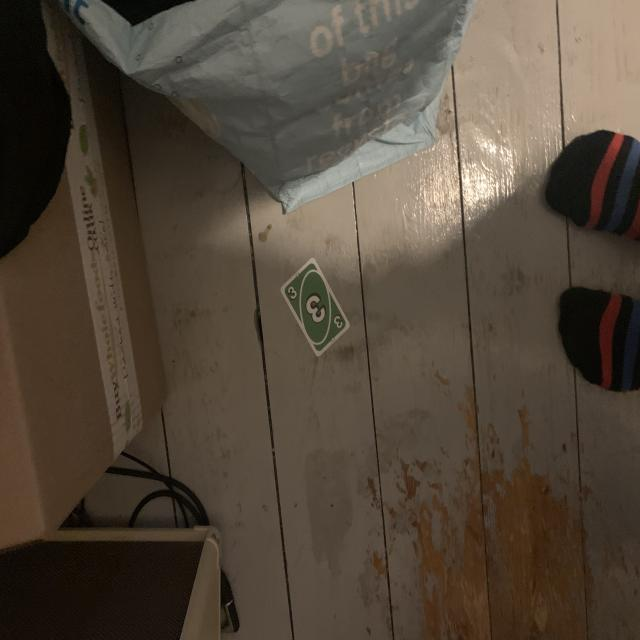lgreen-3: (286, 285, 299, 303)
